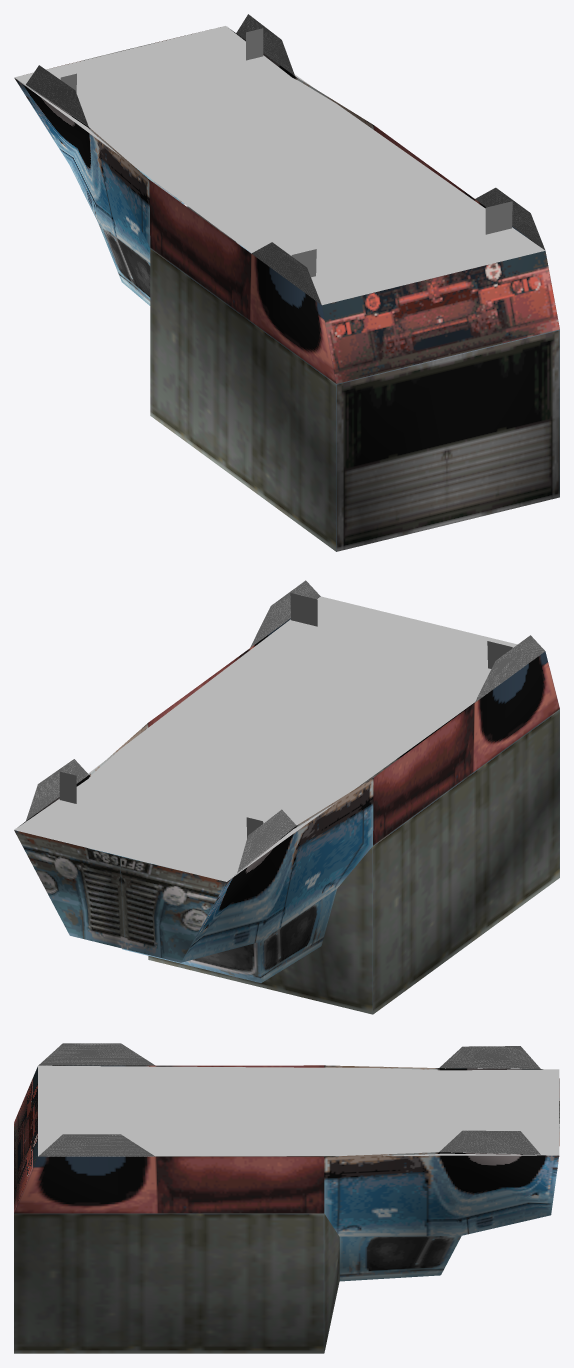
Rendered from HAVANA_model9_low.obj.
3 renders of one model, top to bottom at view 1: azimuth 30°, elevation 25°; view 2: azimuth 150°, elevation 25°; view 3: azimuth 270°, elevation 25°, orthographic. The views are drawn at different scales.
Parts seen in each view (by area): view 1: HAVANA_model9_low; view 2: HAVANA_model9_low; view 3: HAVANA_model9_low.
Part boxes in pixels (box(x1,y1,x2,y2)): HAVANA_model9_low: box(14, 14, 559, 551); HAVANA_model9_low: box(14, 580, 559, 1014); HAVANA_model9_low: box(14, 1043, 559, 1353).
Bounding box in the file's own units: 341 × 382 × 862.
